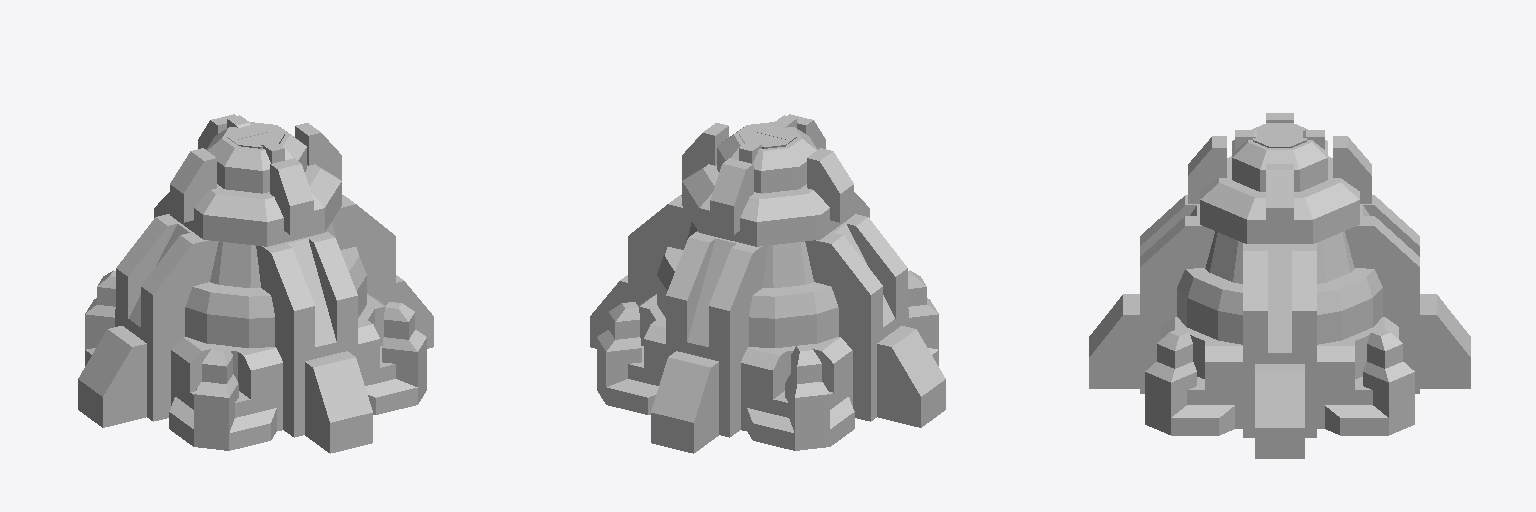
File: rumad_silo2.obj
3 views of the same model, side by side, from view 1: azimuth 30°, elevation 25°; view 2: azimuth 150°, elevation 25°; view 3: azimuth 270°, elevation 25° (orthographic).
Visible parts, largest first — view 1: unnamed_object1; view 2: unnamed_object1; view 3: unnamed_object1.
Boxes of the visible parts, x1=… form: unnamed_object1: x1=78, y1=114, x2=433, y2=453; unnamed_object1: x1=590, y1=114, x2=945, y2=453; unnamed_object1: x1=1089, y1=113, x2=1470, y2=458.
Bounding box in the file's own units: 91.76 × 64.95 × 91.76.